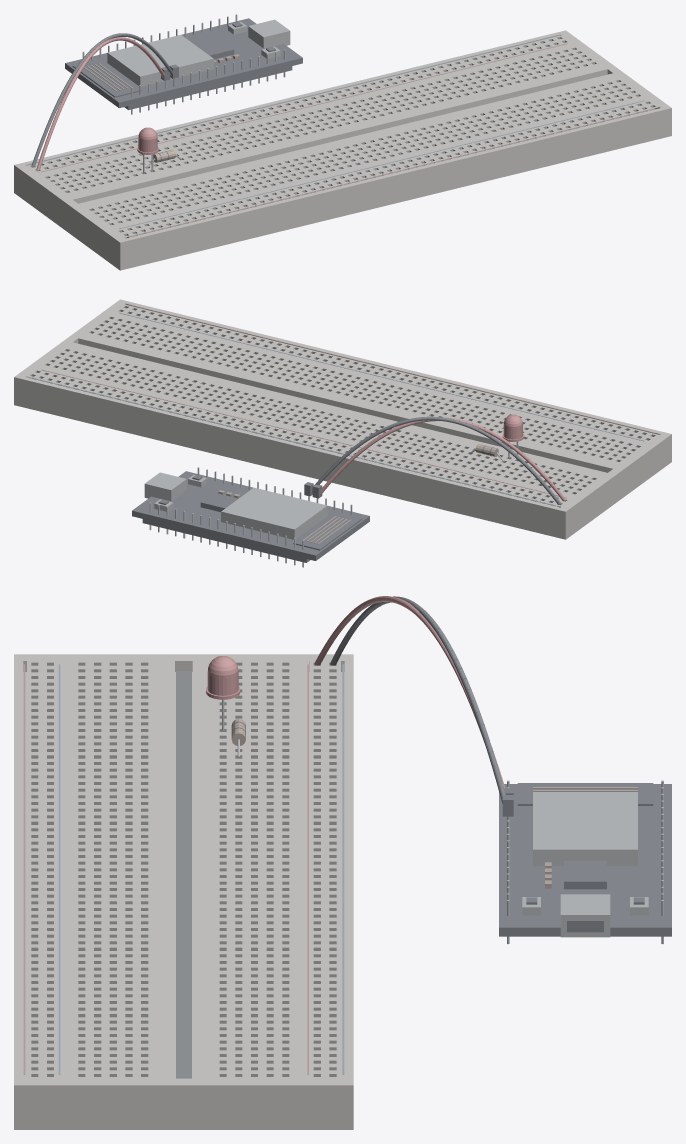
File: step-4.glb
The picture shows the model from 3 angles, top to bottom: view 1: azimuth 30°, elevation 25°; view 2: azimuth 150°, elevation 25°; view 3: azimuth 270°, elevation 25°; orthographic projection. The views are drawn at different scales.
Visible parts, largest first — view 1: breadboard_1__mesh, arduino_uno__mesh, wire_main_gnd__mesh, wire_main_5v__mesh, led_red__mesh; view 2: breadboard_1__mesh, arduino_uno__mesh, wire_main_gnd__mesh, wire_main_5v__mesh, led_red__mesh; view 3: breadboard_1__mesh, arduino_uno__mesh, wire_main_gnd__mesh, wire_main_5v__mesh, led_red__mesh.
Boxes of the visible parts, x1=… form: breadboard_1__mesh: x1=14, y1=30, x2=671, y2=270; arduino_uno__mesh: x1=65, y1=14, x2=302, y2=114; wire_main_gnd__mesh: x1=31, y1=33, x2=178, y2=166; wire_main_5v__mesh: x1=36, y1=37, x2=170, y2=170; led_red__mesh: x1=137, y1=127, x2=158, y2=173; breadboard_1__mesh: x1=14, y1=299, x2=671, y2=539; arduino_uno__mesh: x1=132, y1=467, x2=369, y2=567; wire_main_gnd__mesh: x1=304, y1=416, x2=560, y2=504; wire_main_5v__mesh: x1=312, y1=417, x2=565, y2=501; led_red__mesh: x1=502, y1=414, x2=524, y2=460; breadboard_1__mesh: x1=14, y1=654, x2=353, y2=1129; arduino_uno__mesh: x1=499, y1=780, x2=671, y2=944; wire_main_gnd__mesh: x1=330, y1=596, x2=513, y2=816; wire_main_5v__mesh: x1=314, y1=596, x2=513, y2=794; led_red__mesh: x1=206, y1=656, x2=240, y2=730.
Size of the model in its own units: 0.165 by 0.0318 by 0.1065.
